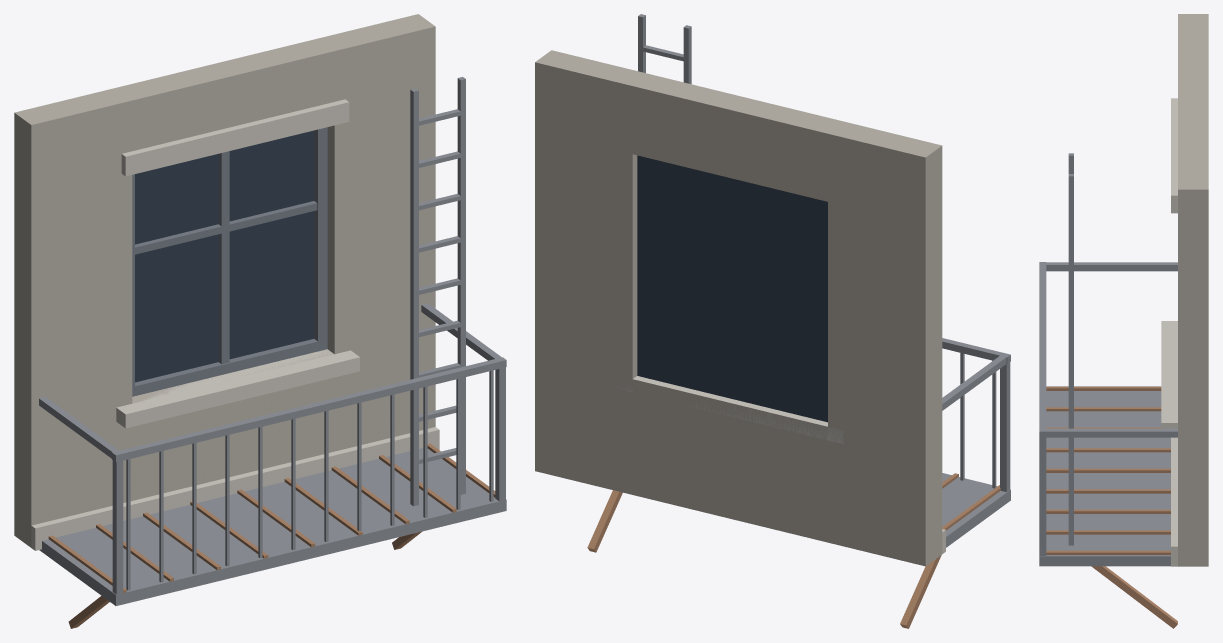
The model's file is wall_fire_escape.glb.
3 views of the same model, side by side, from view 1: azimuth 30°, elevation 25°; view 2: azimuth 150°, elevation 25°; view 3: azimuth 270°, elevation 25° (orthographic). The views are drawn at different scales.
Visible parts, largest first — view 1: wall_fire_escape; view 2: wall_fire_escape; view 3: wall_fire_escape.
Part boxes in pixels (bbox=[...]): wall_fire_escape: bbox=[14, 14, 506, 628]; wall_fire_escape: bbox=[535, 14, 1010, 628]; wall_fire_escape: bbox=[1039, 14, 1208, 628].
Bounding box in the file's own units: 3 × 3.62 × 1.22.
